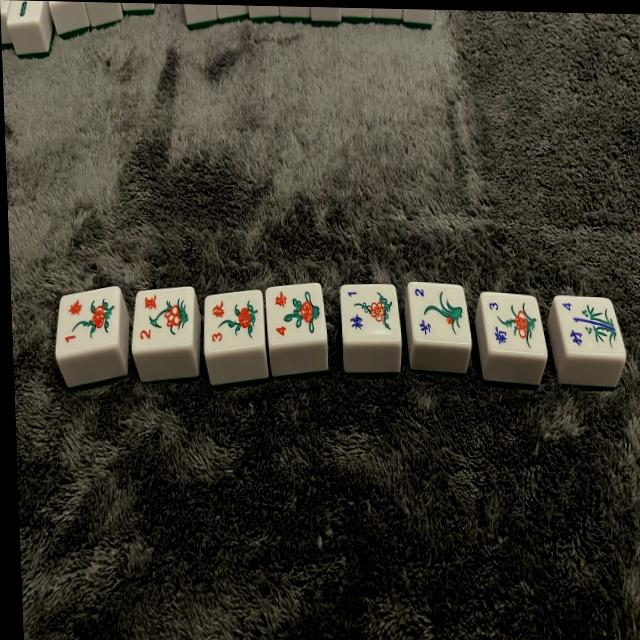f1: (341, 284, 403, 343)
f2: (408, 283, 471, 345)
f3: (482, 294, 548, 356)
f4: (558, 300, 627, 356)
ff1: (55, 286, 124, 356)
ff2: (132, 286, 196, 352)
ff3: (203, 290, 266, 353)
ff4: (266, 282, 328, 347)
